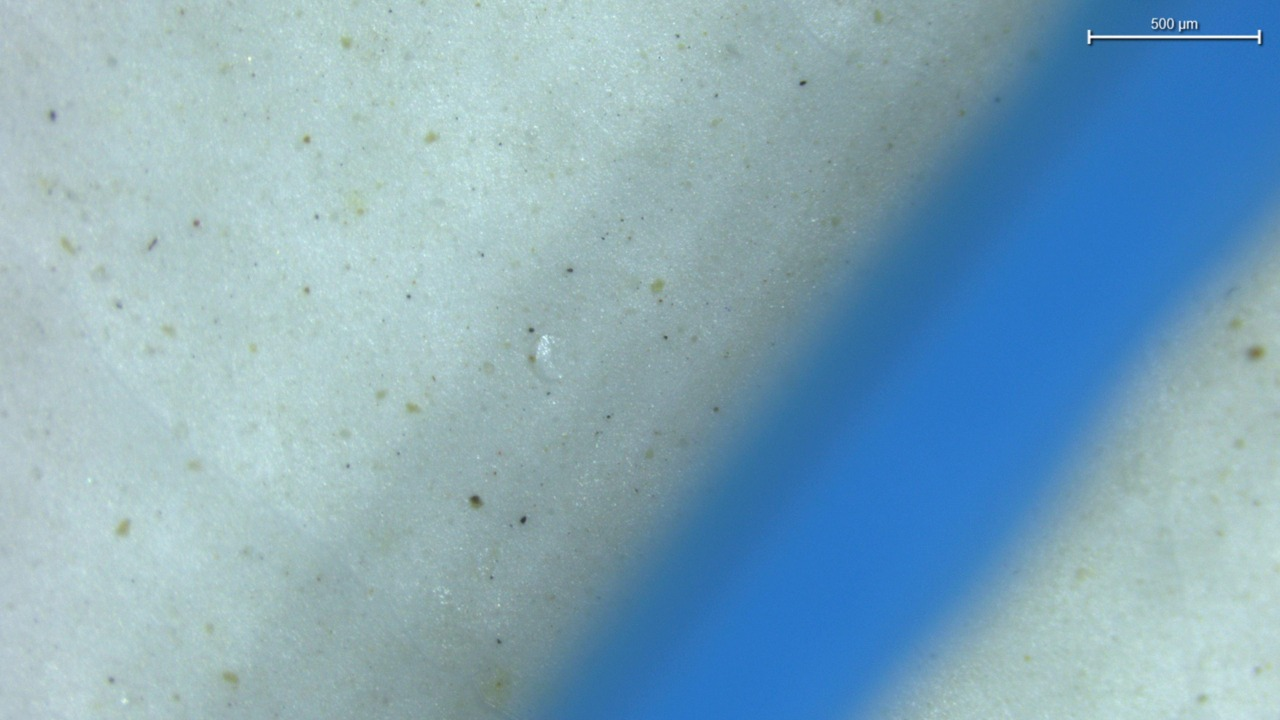microplastic_fragment: (534, 334, 562, 380)
